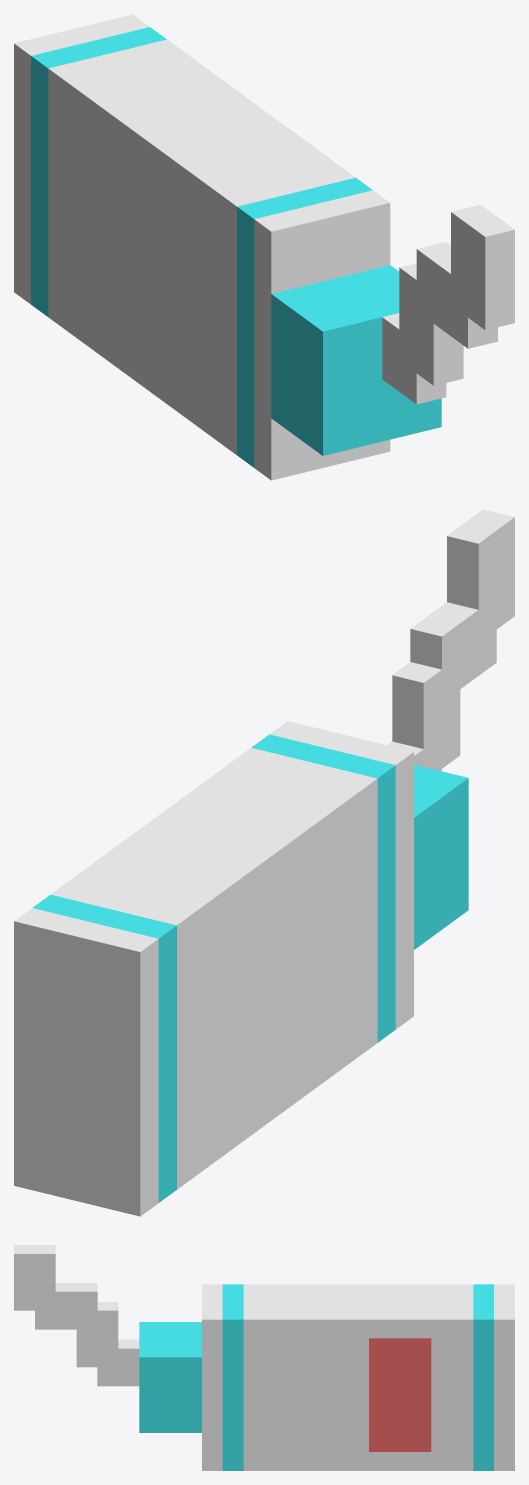
File: pasta.obj
The picture shows the model from 3 angles, top to bottom: view 1: azimuth 30°, elevation 25°; view 2: azimuth 150°, elevation 25°; view 3: azimuth 270°, elevation 25°; orthographic projection. The views are drawn at different scales.
Visible parts, largest first — view 1: pasta; view 2: pasta; view 3: pasta.
Boxes of the visible parts, <box> form: pasta: <box>14,14,514,480</box>; pasta: <box>14,509,514,1216</box>; pasta: <box>14,1245,514,1470</box>.
Bounding box in the file's own units: 4 × 11 × 24.
1 material, 1 textured.
